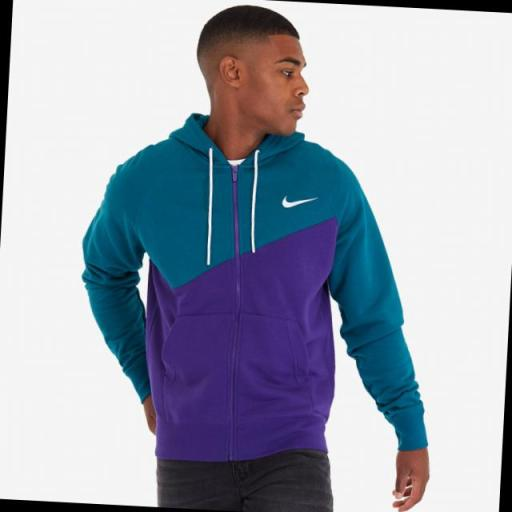Nike: (280, 193, 321, 212)
